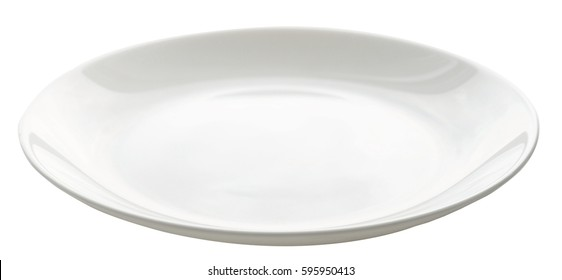plate: (14, 21, 550, 250)
